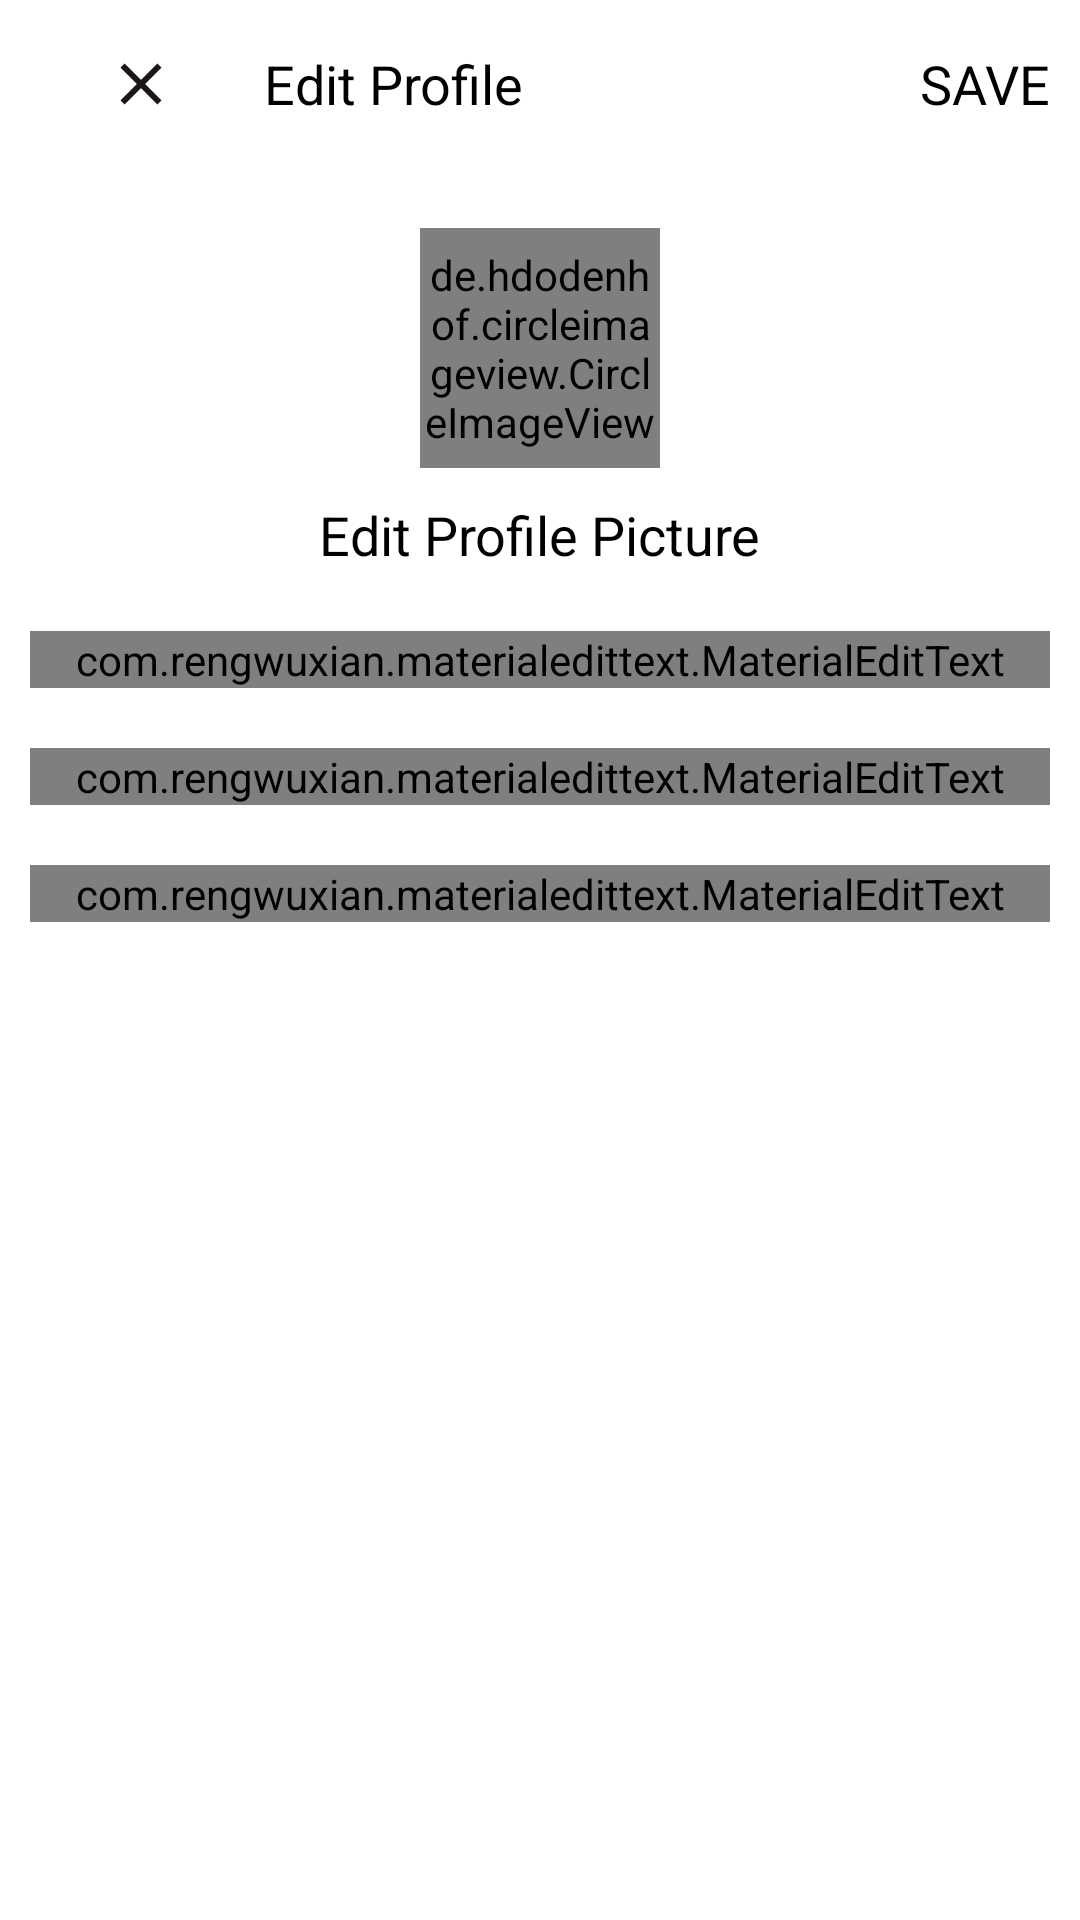

Icon bounding boxes for this 1080 x 1920 phone screenshot, format box=[x1, y1, x2, y2]:
close: box=[120, 63, 162, 105]
